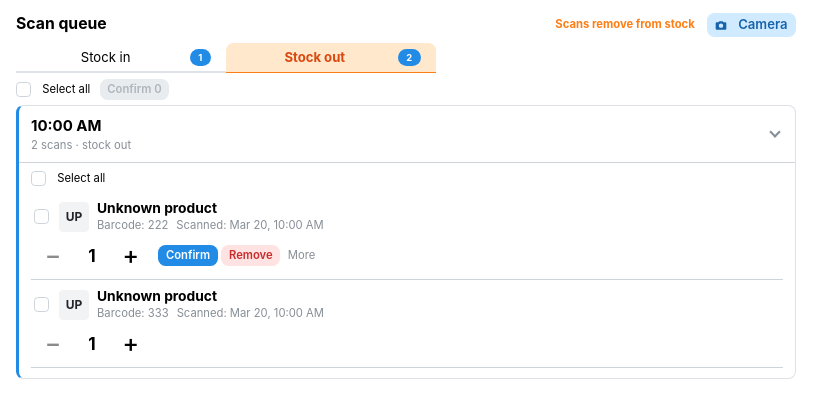
ScanQueuePage › switching from Stock_Out_View to Stock_In_View renders only stock_in entries
Expected: the text "Barcode: 222" is shown, x1=97 y1=218 x2=168 y2=233
Expected: the text "Barcode: 333" is shown, x1=97 y1=306 x2=169 y2=321
Note: Switch to Stock_In_View
Click the tab "Stock in 1". click: (121, 58)
box: x1=16 y1=43 x2=226 y2=73
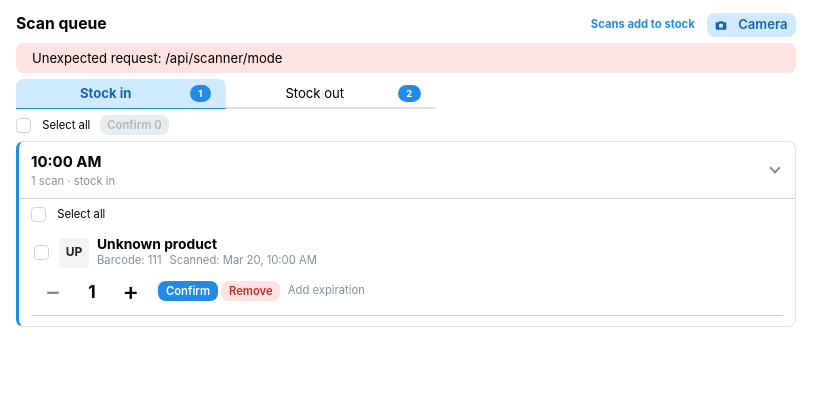
Result: the text "Barcode: 222" is gone
Result: the text "Barcode: 333" is gone
Result: the text "Barcode: 111" is shown at x1=97 y1=253 x2=162 y2=269
